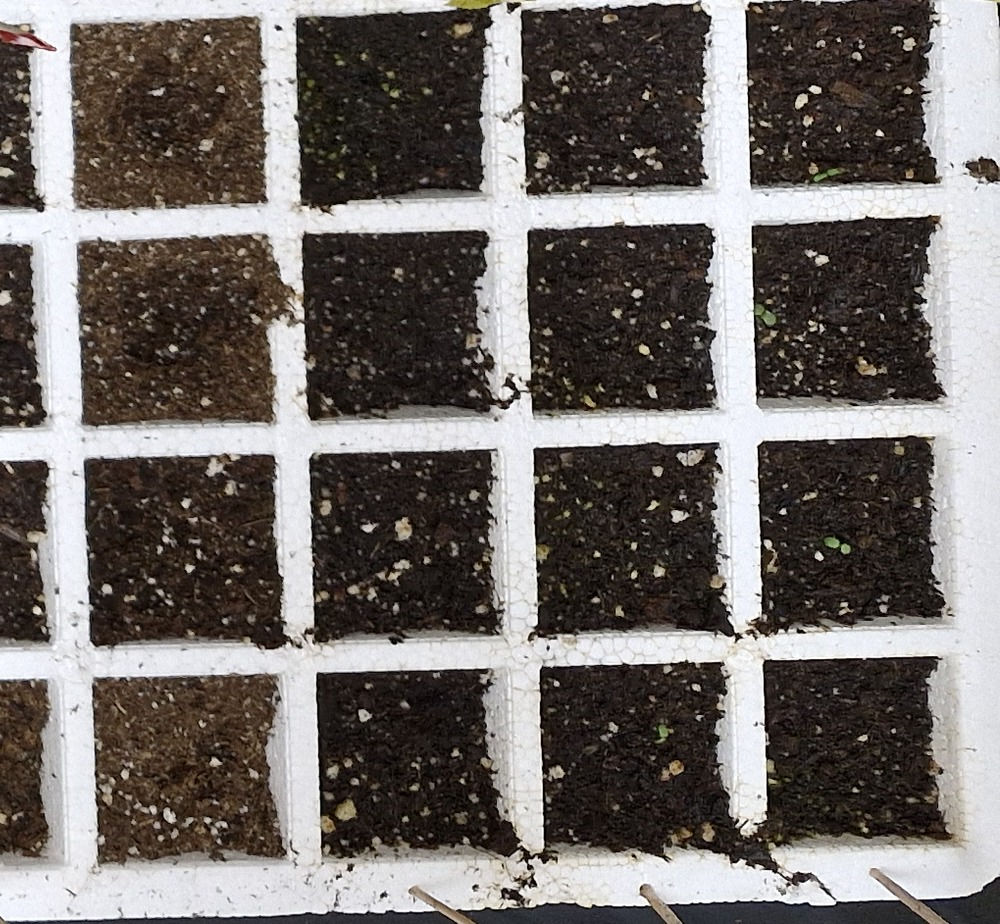Folha: (762, 313, 775, 325), (825, 538, 840, 547), (754, 304, 764, 315), (841, 543, 850, 554)
Germinacao: (753, 304, 776, 325), (823, 538, 851, 554)
